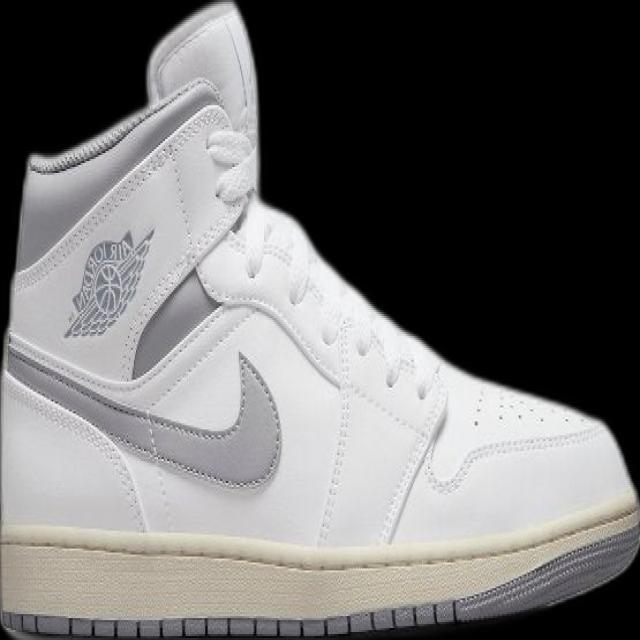J1_InsoleChar: (0, 0, 639, 639)
J1_ShoeLogo: (62, 225, 155, 339)
J1_StitchPattern: (1, 328, 637, 637), (0, 510, 639, 639), (3, 333, 284, 494), (14, 100, 250, 289), (2, 365, 149, 529), (25, 74, 220, 175), (1, 601, 460, 639), (458, 525, 639, 618), (428, 420, 608, 494), (375, 392, 449, 546), (314, 313, 357, 546), (25, 103, 156, 175), (202, 123, 259, 205), (468, 381, 549, 431)
